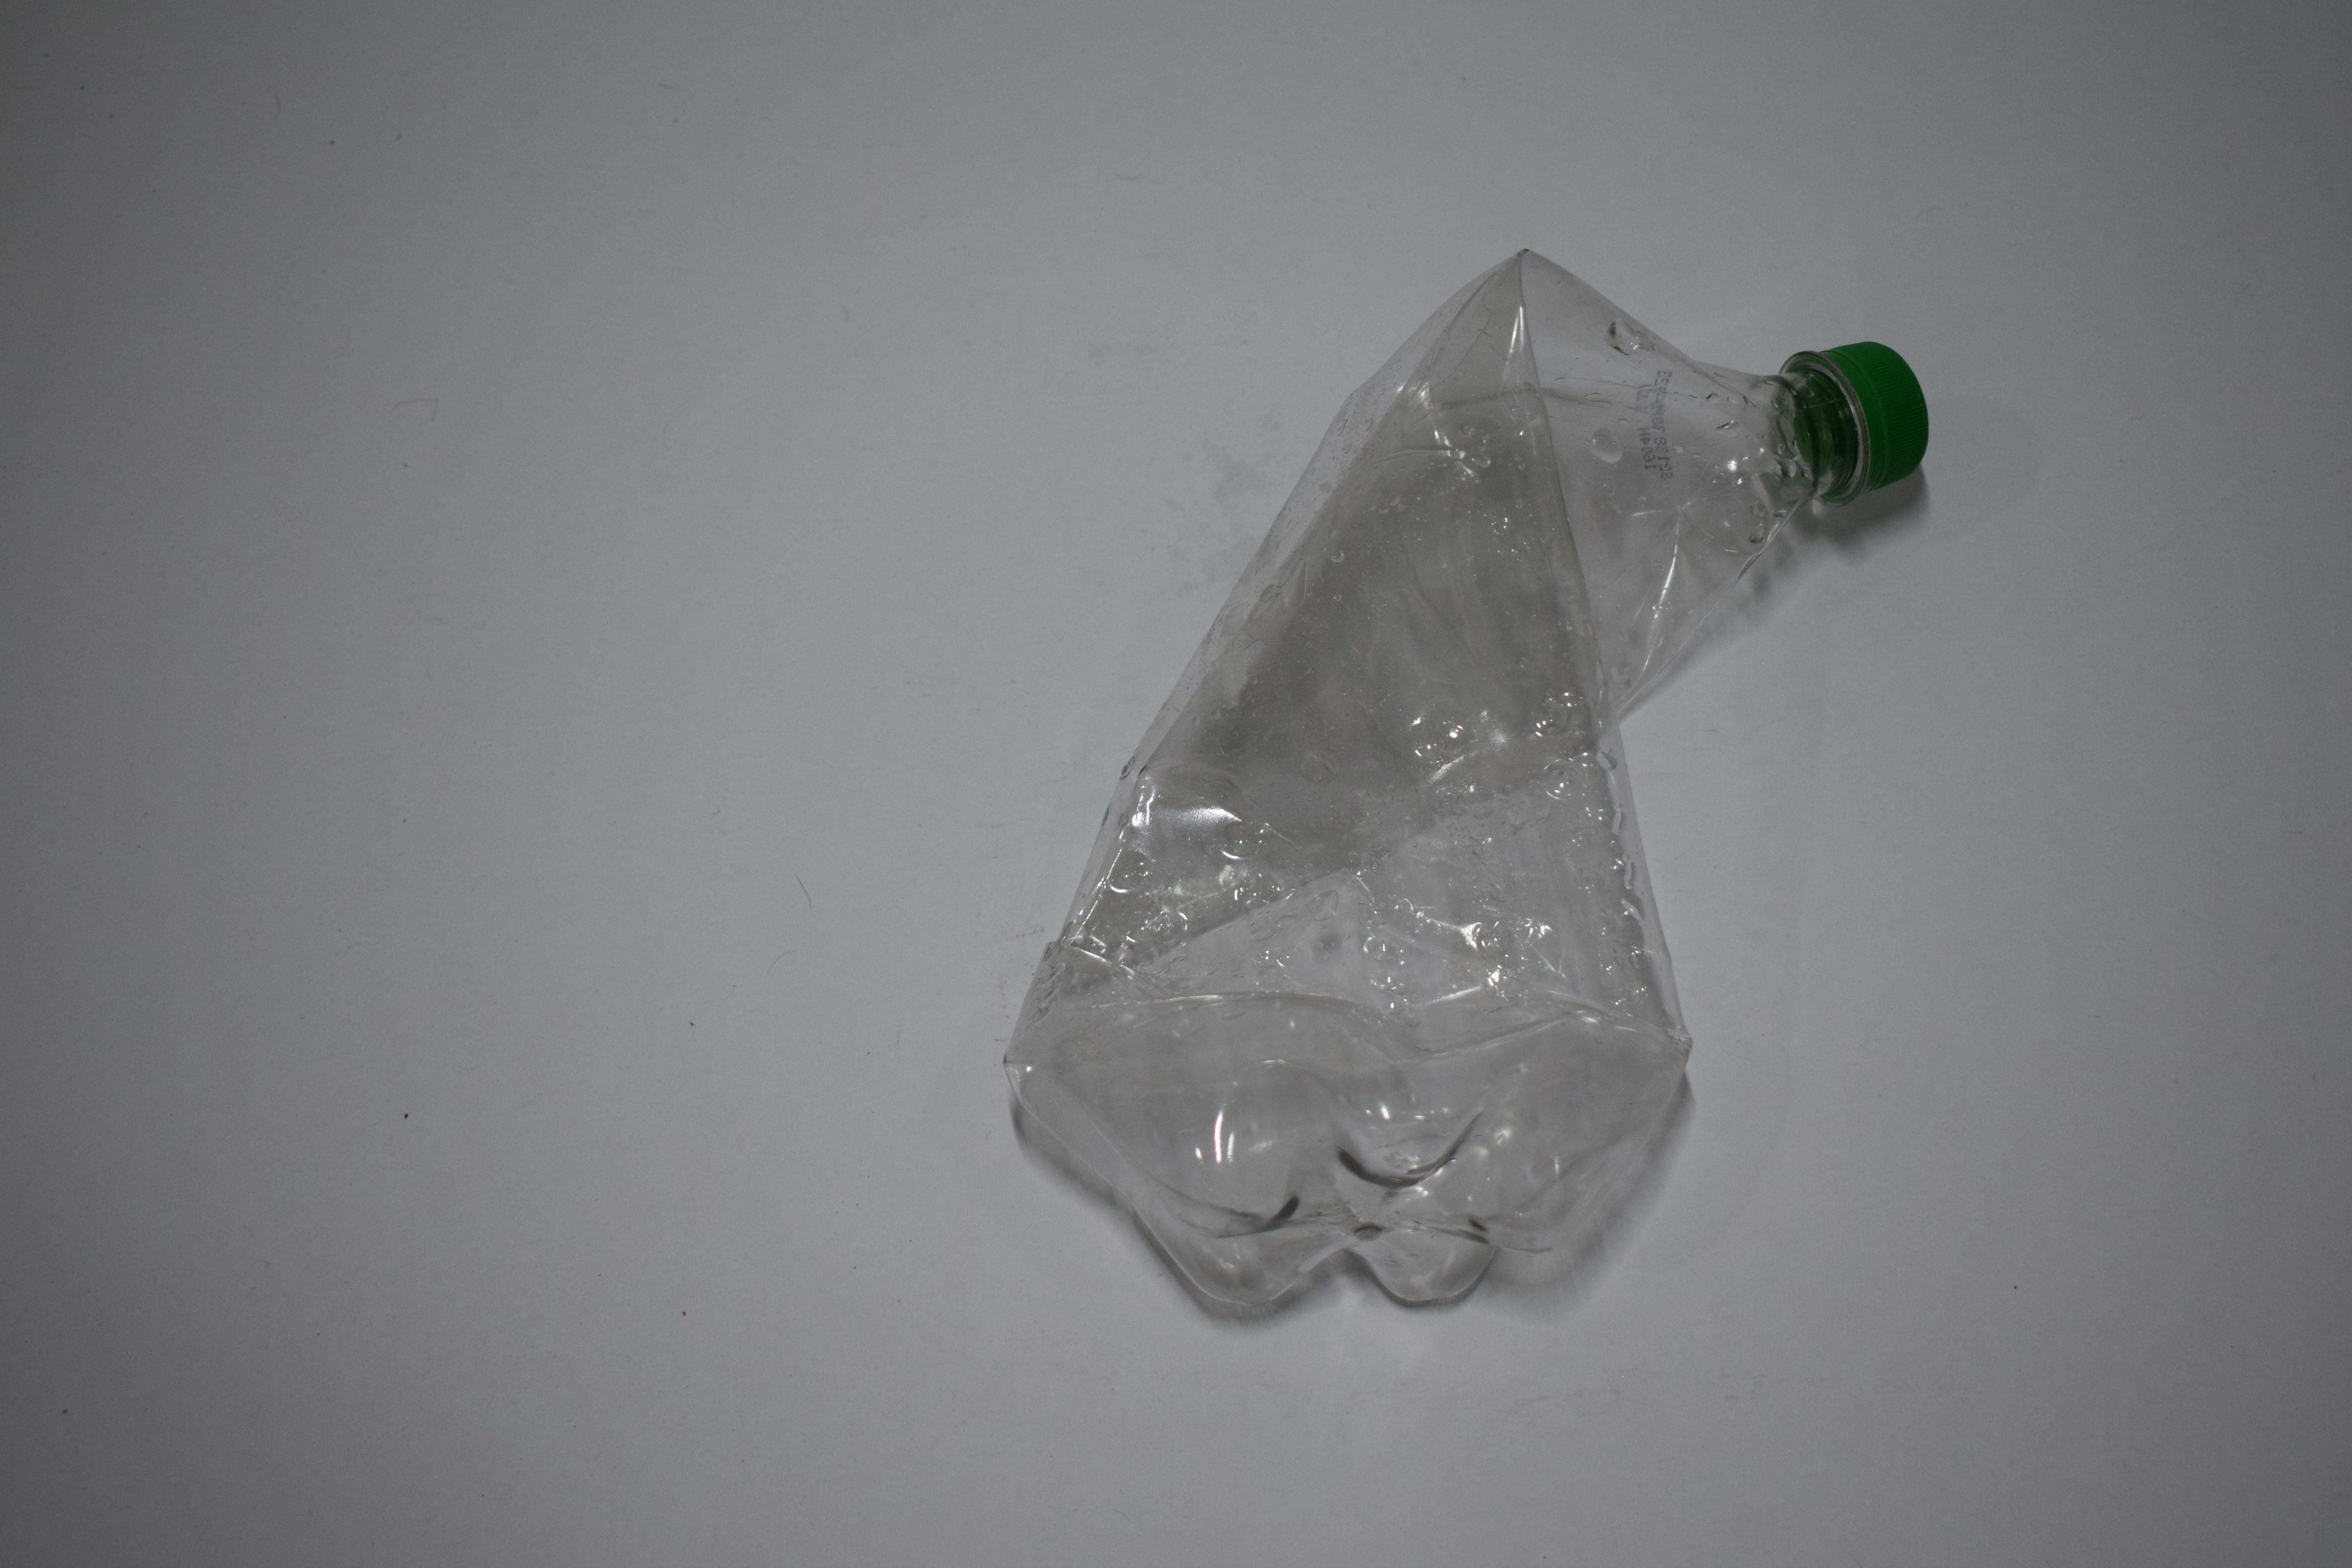bottle: (987, 228, 1932, 1309)
